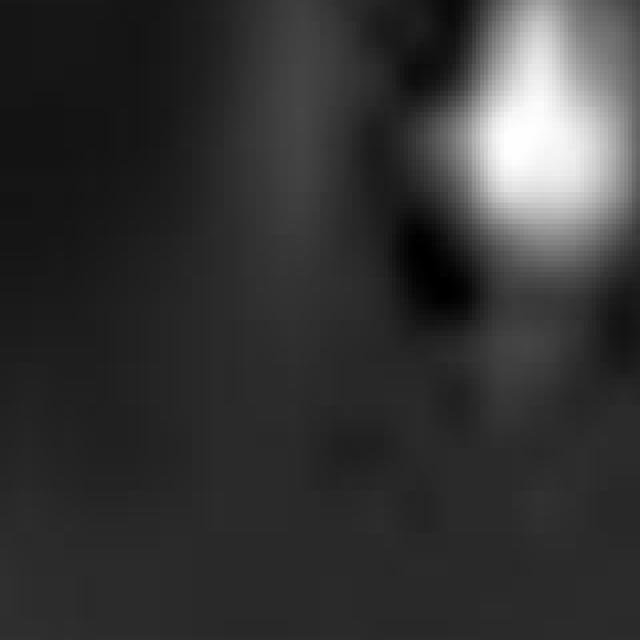person: (425, 1, 640, 374)
